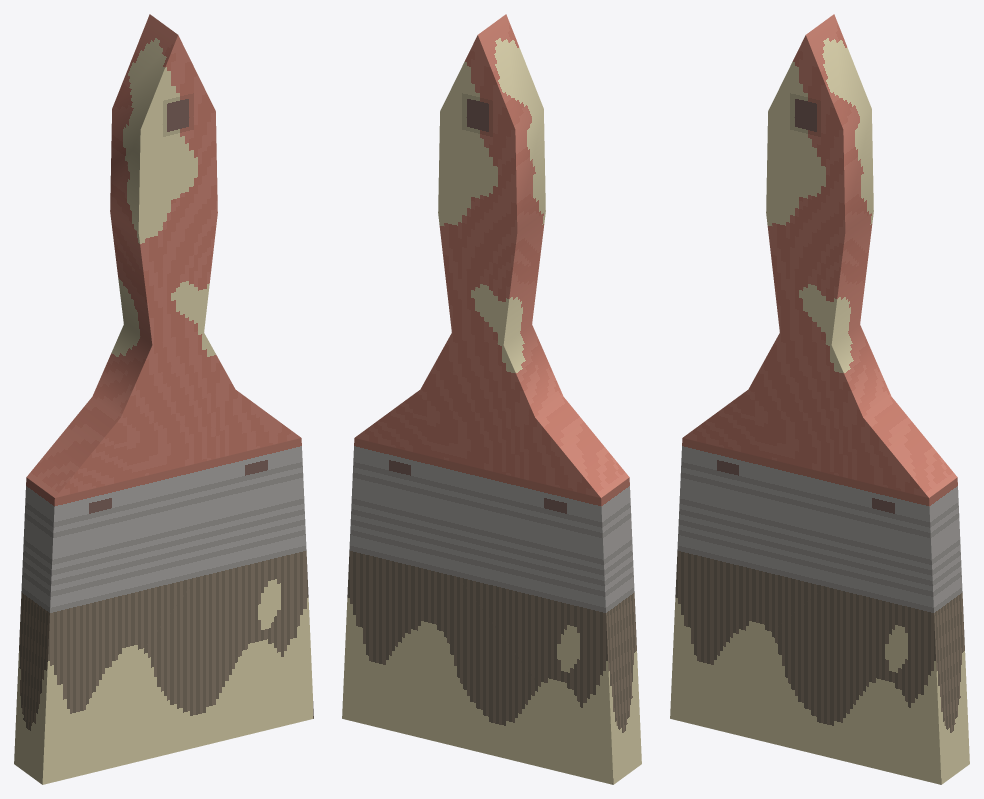
File: 034a_Paintbrush.glb
The picture shows the model from 3 angles, left to right: view 1: azimuth 30°, elevation 25°; view 2: azimuth 150°, elevation 25°; view 3: azimuth 330°, elevation 25°; orthographic projection.
Visible parts, largest first — view 1: part_0; view 2: part_0; view 3: part_0.
Boxes of the visible parts, x1=… form: part_0: x1=14, y1=14, x2=313, y2=784; part_0: x1=342, y1=14, x2=641, y2=784; part_0: x1=670, y1=14, x2=969, y2=784.
Bounding box in the file's own units: 0.0715 × 0.1805 × 0.013.
Materials: 1 (1 with a texture image).
